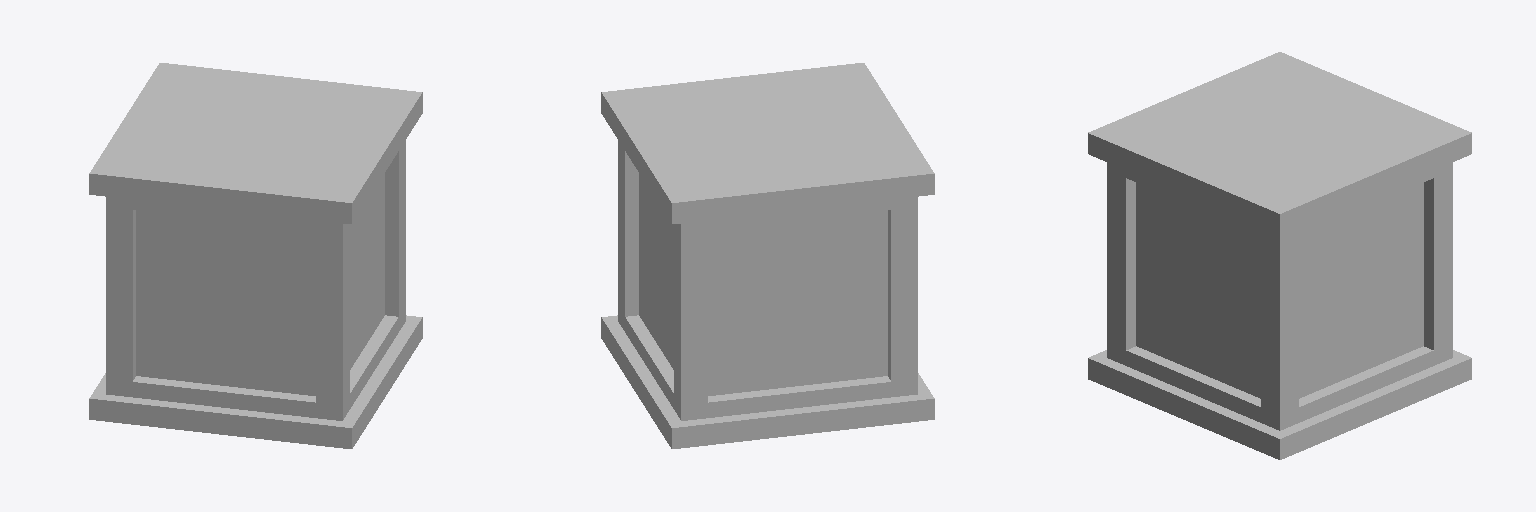
File: crate_1_angled.obj
3 renders of one model, left to right at view 1: azimuth 30°, elevation 25°; view 2: azimuth 150°, elevation 25°; view 3: azimuth 270°, elevation 25°, orthographic.
Visible parts, largest first — view 1: Crate_1.001_Cube.038; view 2: Crate_1.001_Cube.038; view 3: Crate_1.001_Cube.038.
Part boxes in pixels (x1,y1,x2,y2): Crate_1.001_Cube.038: (89,63,422,448); Crate_1.001_Cube.038: (601,63,934,448); Crate_1.001_Cube.038: (1088,52,1471,459).
Bounding box in the file's own units: 1.41 × 0.9987 × 1.41.